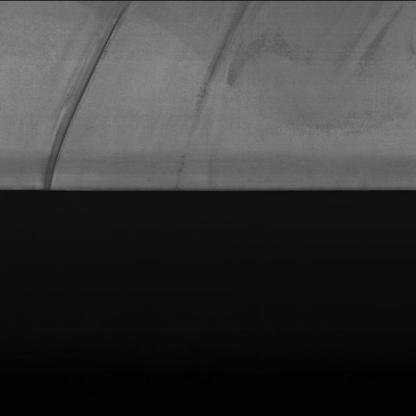rolled_pit: (26, 2, 136, 188), (168, 2, 268, 190)
